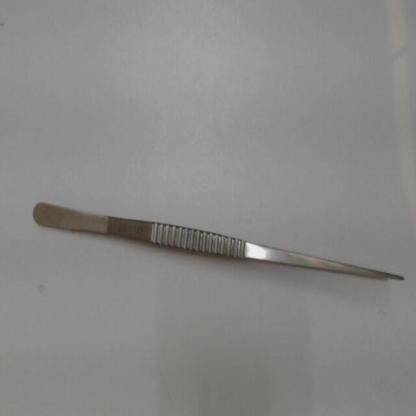DeBakey Dissector: (14, 186, 412, 305)
